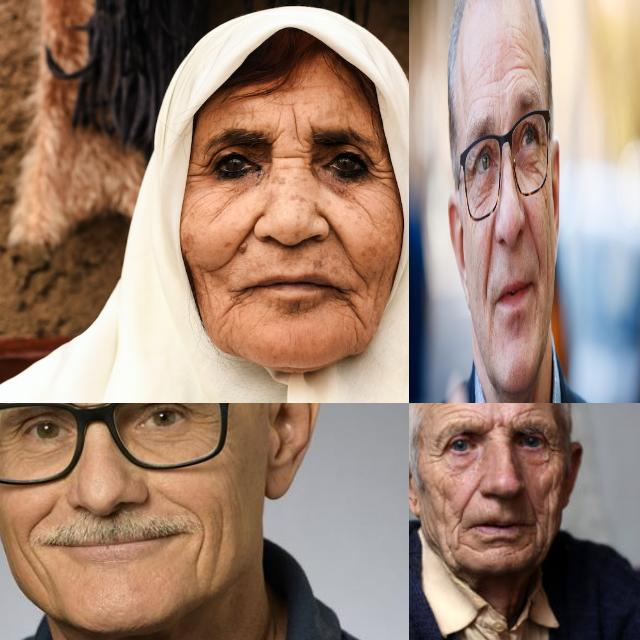chin: (450, 534, 480, 558), (505, 540, 529, 558), (290, 300, 308, 320)
crows_feet: (186, 406, 218, 438), (0, 428, 25, 458), (368, 160, 392, 190), (189, 161, 213, 187), (544, 432, 560, 462), (428, 442, 444, 466), (466, 162, 475, 194), (540, 130, 546, 168)
forehead: (468, 66, 491, 102), (522, 47, 538, 81), (503, 62, 521, 90), (516, 404, 544, 418), (437, 403, 469, 413)
frown_line: (287, 108, 303, 142), (486, 414, 508, 436), (497, 107, 502, 135)
gummy_smile: (318, 211, 350, 255), (164, 488, 200, 518), (26, 498, 56, 532), (232, 222, 256, 262), (454, 484, 480, 520), (526, 208, 540, 271), (484, 223, 495, 294), (522, 489, 538, 519)
masseter: (209, 495, 233, 553), (194, 264, 216, 304), (544, 205, 553, 283), (358, 200, 376, 232), (420, 508, 436, 544), (373, 264, 385, 308), (207, 199, 225, 225), (543, 496, 553, 530)
sad_smile: (26, 548, 52, 588), (187, 530, 211, 570), (224, 287, 250, 315), (342, 286, 363, 318)
